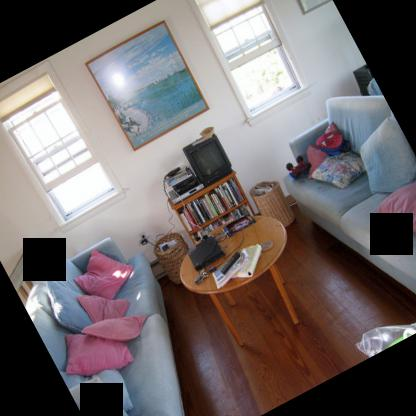backpack: (316, 131, 351, 156)
